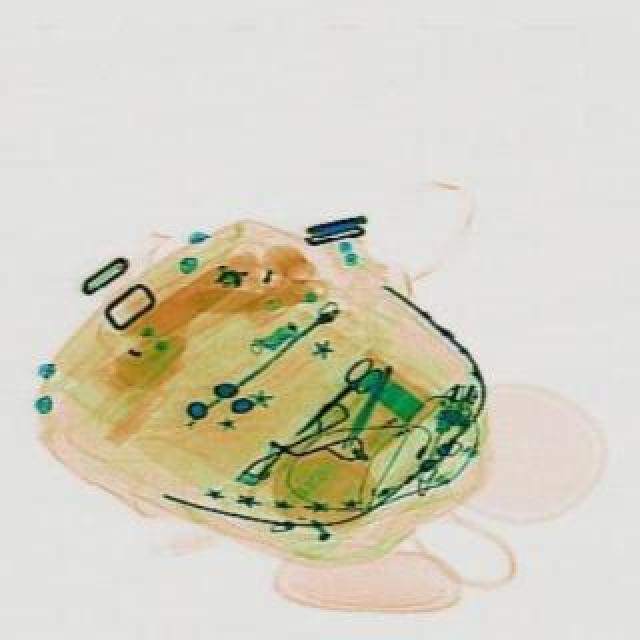pliers: (290, 358, 392, 448)
